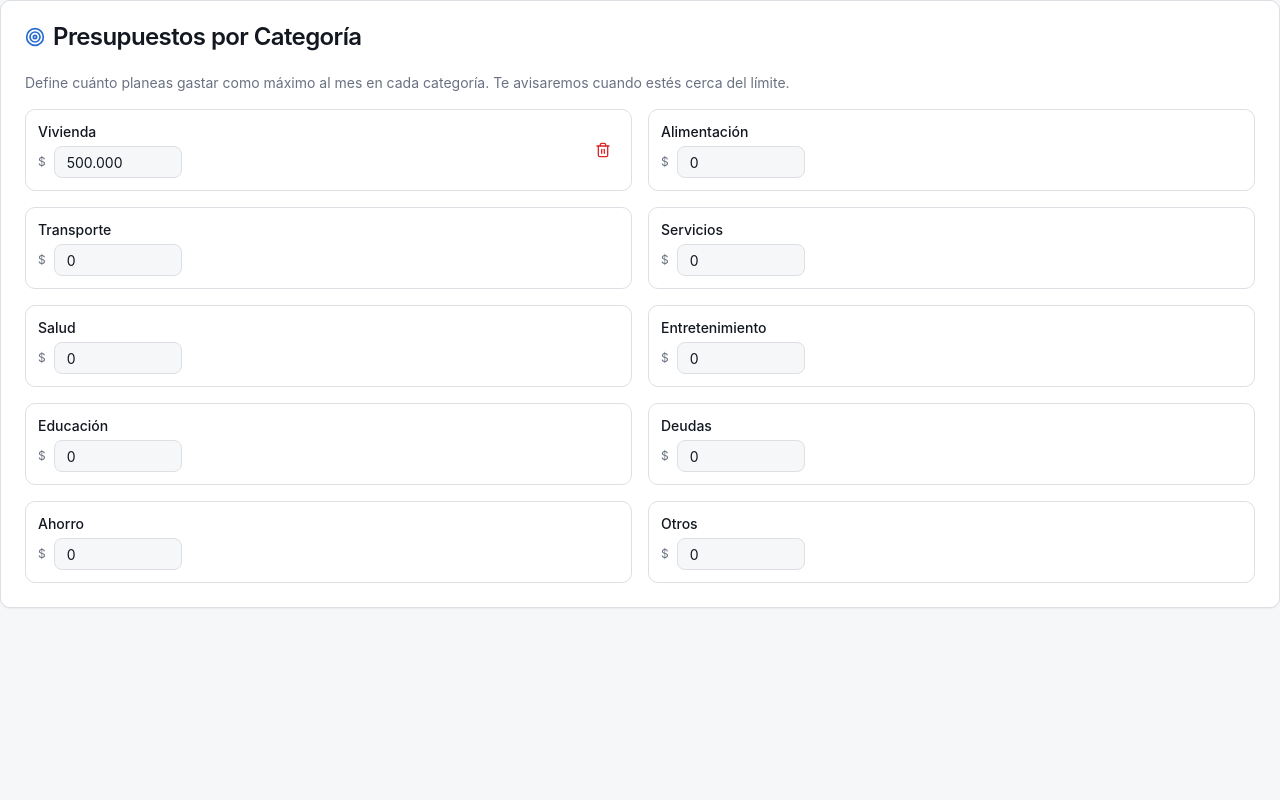
PresupuestosManager › detects hayCambios and reveals the save button once the input is edited to a different value
Replace the text in the field showing "500.000" below "Vivienda" with "600000": (118, 162) [54,146,182,178]
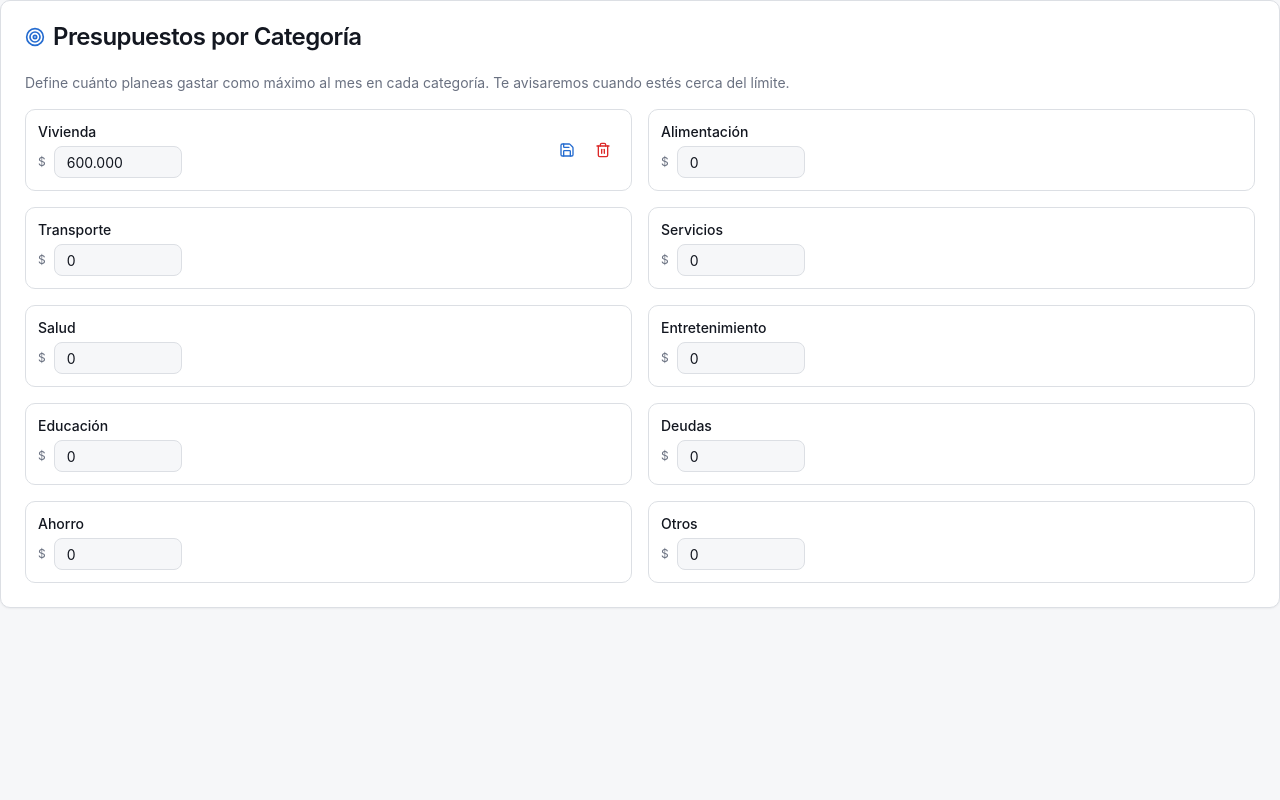
Check: the number of buttons is 2, box [551,134,583,166]; [587,134,619,166]
